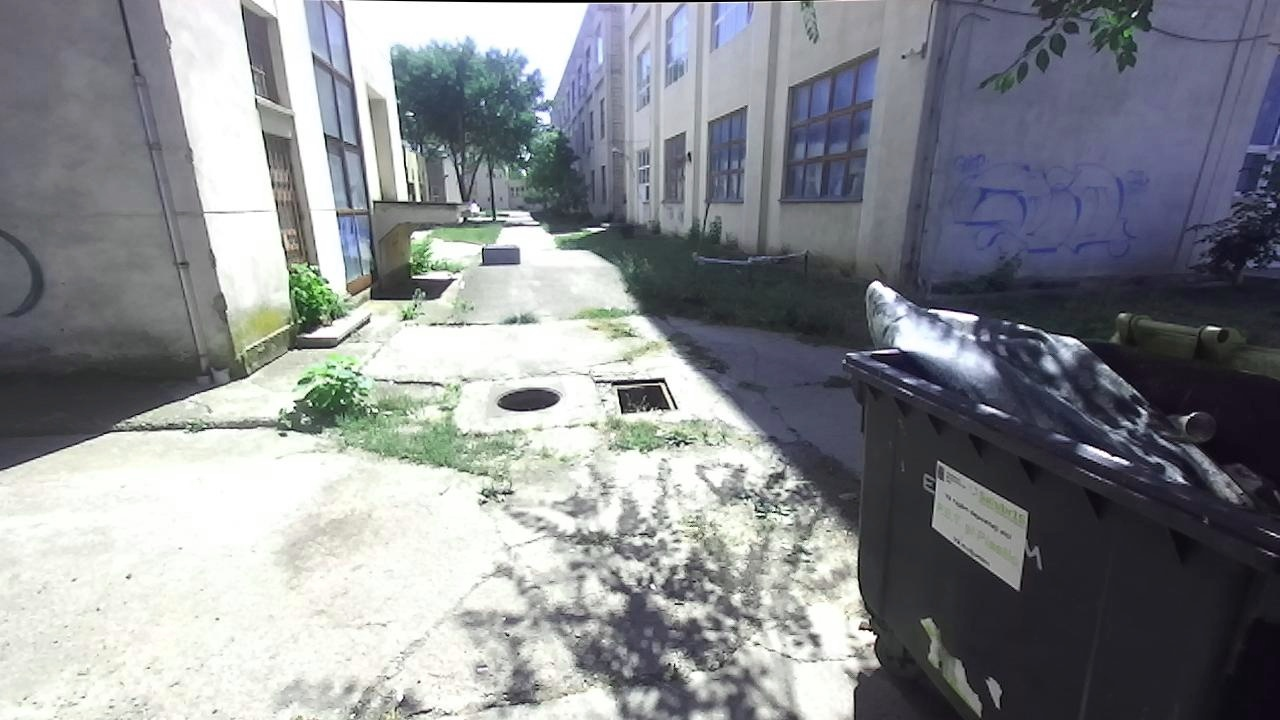drain: (607, 375, 681, 416), (496, 383, 568, 413)
